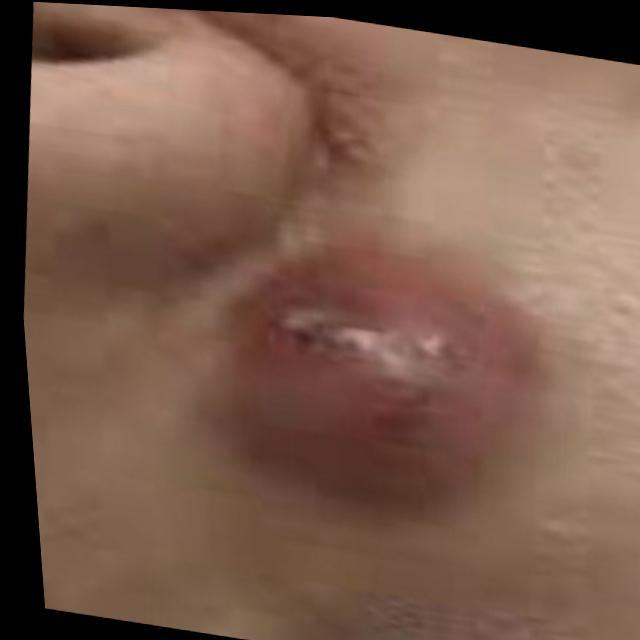nodule: (202, 242, 560, 561)
